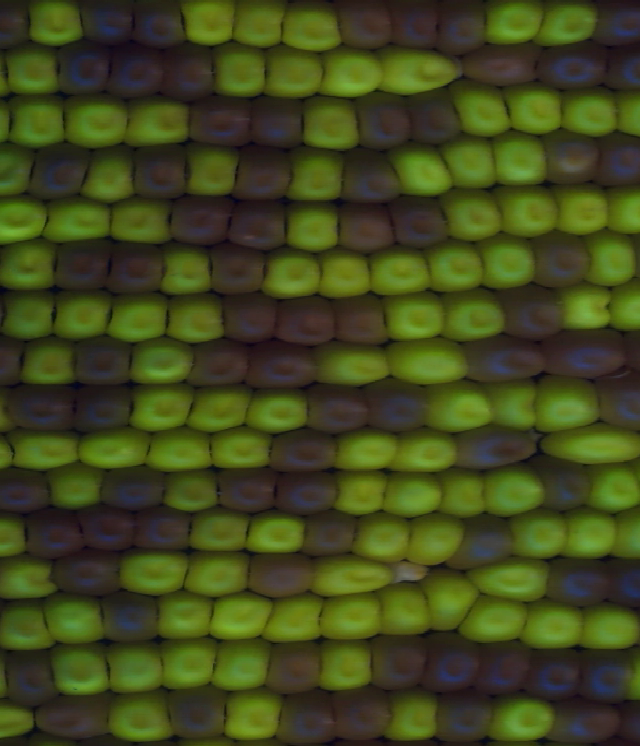fluorescent: (375, 44, 457, 96), (531, 374, 603, 433), (382, 339, 470, 384), (314, 45, 387, 99), (384, 141, 453, 198), (537, 425, 640, 463), (124, 96, 195, 149), (449, 78, 515, 135), (439, 289, 508, 343), (476, 233, 541, 290), (421, 383, 498, 431), (274, 1, 345, 53), (520, 599, 588, 653), (406, 511, 469, 569), (205, 46, 271, 101), (299, 96, 365, 151), (423, 568, 476, 636), (115, 550, 195, 595), (311, 247, 376, 302), (102, 694, 178, 741), (64, 96, 134, 147), (422, 241, 489, 294), (106, 194, 174, 246), (285, 146, 347, 203), (210, 635, 273, 691), (154, 588, 218, 643), (364, 248, 434, 298), (101, 643, 167, 696), (3, 98, 70, 150), (436, 136, 499, 191), (378, 291, 447, 341), (259, 45, 325, 97), (164, 294, 230, 346), (490, 131, 551, 187), (129, 381, 195, 432), (77, 147, 138, 202), (157, 638, 218, 693), (260, 249, 322, 303), (183, 551, 254, 598), (491, 187, 559, 236), (39, 195, 113, 240), (471, 560, 552, 601), (45, 594, 110, 645), (532, 1, 598, 51), (492, 695, 559, 744), (108, 290, 171, 342), (553, 183, 616, 235), (0, 45, 64, 96), (561, 504, 621, 558), (280, 200, 342, 252), (317, 638, 379, 690), (247, 387, 315, 434), (481, 466, 546, 515), (49, 646, 114, 695), (503, 81, 564, 133), (438, 193, 504, 241), (313, 558, 398, 595), (221, 691, 285, 740), (189, 385, 257, 431), (0, 239, 59, 292), (352, 512, 411, 565), (373, 587, 434, 638), (383, 469, 446, 518), (211, 592, 275, 640), (314, 343, 387, 385), (465, 594, 527, 643), (129, 338, 195, 384), (184, 506, 250, 552), (183, 143, 239, 197), (55, 291, 113, 343), (0, 602, 59, 653), (334, 431, 402, 475), (579, 233, 637, 284), (506, 507, 567, 555), (264, 598, 330, 642), (227, 1, 287, 49), (19, 339, 79, 387), (319, 595, 383, 640), (2, 290, 57, 342), (208, 428, 273, 472), (434, 467, 490, 518), (557, 283, 614, 333), (334, 469, 393, 517), (178, 1, 238, 48), (576, 607, 640, 651), (565, 85, 618, 138), (160, 245, 214, 297), (79, 429, 151, 468), (245, 510, 307, 555), (0, 192, 48, 250), (588, 461, 640, 514), (483, 1, 544, 45), (393, 434, 460, 474), (23, 1, 88, 42), (12, 430, 82, 468), (150, 430, 214, 471), (0, 556, 61, 599), (489, 378, 539, 429), (387, 694, 442, 739), (166, 471, 219, 516), (51, 464, 103, 508), (0, 145, 35, 198), (0, 696, 39, 741), (0, 512, 33, 561), (606, 185, 640, 232), (609, 281, 640, 330)
nonfluorescent: (540, 328, 626, 376), (245, 336, 320, 391), (29, 691, 118, 737), (338, 145, 403, 206), (405, 89, 470, 149), (387, 191, 454, 249), (419, 630, 481, 692), (247, 91, 313, 149), (432, 688, 498, 746), (202, 241, 272, 295), (1, 645, 61, 707), (450, 514, 515, 571), (260, 638, 327, 693), (231, 146, 299, 200), (277, 689, 341, 746), (94, 590, 164, 642), (329, 687, 395, 742), (544, 699, 621, 746), (159, 41, 219, 101), (579, 644, 639, 704), (460, 337, 545, 379), (188, 91, 254, 145), (546, 553, 613, 606), (366, 629, 427, 687), (475, 637, 536, 695), (50, 548, 123, 596), (538, 40, 608, 90), (32, 142, 92, 200), (351, 91, 412, 148), (131, 142, 192, 199), (451, 429, 540, 468), (165, 685, 233, 736), (6, 381, 78, 429), (529, 645, 587, 704), (108, 42, 164, 103), (528, 231, 592, 284), (63, 386, 140, 430), (71, 336, 137, 387), (228, 195, 288, 251), (326, 297, 394, 346), (304, 386, 374, 433), (537, 130, 600, 182), (104, 239, 164, 293), (268, 428, 345, 470), (366, 380, 428, 432), (243, 551, 313, 597), (498, 287, 561, 338), (463, 42, 543, 82), (217, 291, 281, 341), (28, 505, 87, 559), (274, 297, 339, 346), (103, 466, 169, 514), (51, 238, 116, 286), (332, 200, 393, 251), (70, 1, 140, 45), (188, 339, 252, 387), (533, 460, 595, 509), (334, 1, 396, 50), (435, 1, 488, 58), (133, 504, 197, 551), (55, 41, 114, 90), (220, 467, 281, 514), (299, 509, 360, 556), (590, 373, 640, 429), (388, 1, 442, 52), (169, 198, 230, 243), (79, 504, 138, 549), (134, 1, 191, 47), (278, 473, 341, 514), (0, 467, 57, 512), (594, 131, 640, 184), (592, 3, 640, 48), (598, 46, 640, 89), (608, 558, 640, 607), (0, 335, 30, 384), (0, 1, 33, 45)
